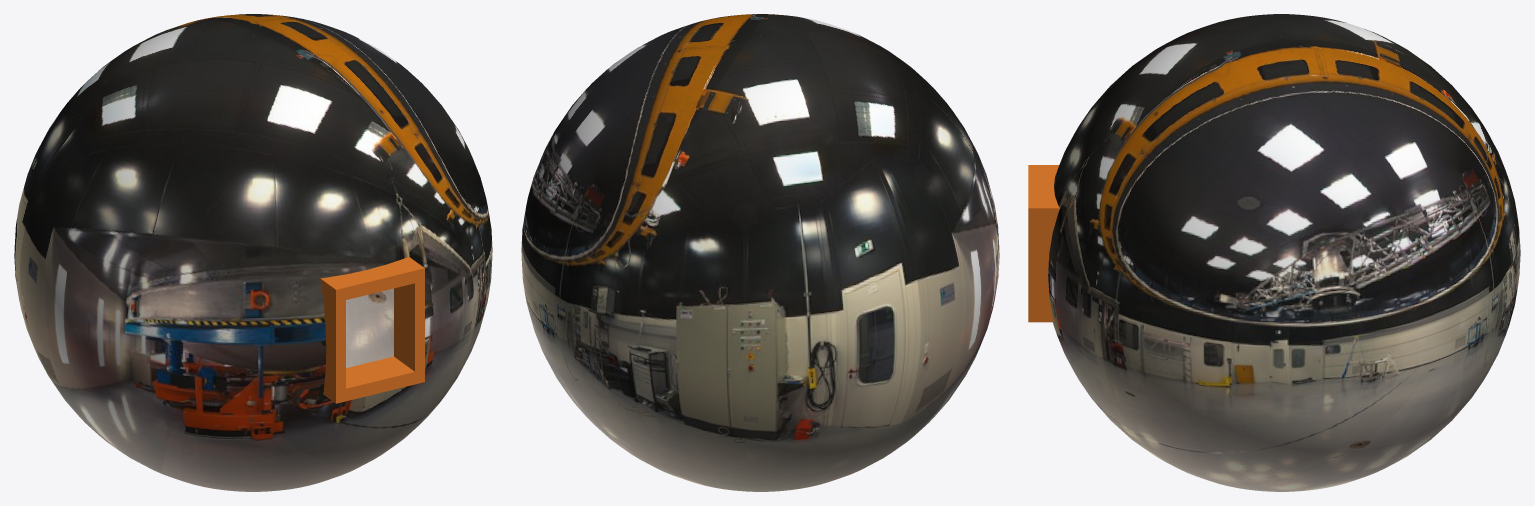
File: portal.glb
3 renders of one model, left to right at view 1: azimuth 30°, elevation 25°; view 2: azimuth 150°, elevation 25°; view 3: azimuth 270°, elevation 25°, orthographic.
Visible parts, largest first — view 1: Sphere, Cube; view 2: Sphere; view 3: Sphere, Cube.
Boxes of the visible parts, x1,y1,x2,y2 form: Sphere: [14, 14, 492, 491]; Cube: [320, 256, 424, 403]; Sphere: [521, 14, 999, 491]; Sphere: [1048, 14, 1520, 491]; Cube: [1028, 165, 1059, 322].
Bounding box in the file's own units: 2 × 2 × 2.06.
Materials: 2 (1 with a texture image).
